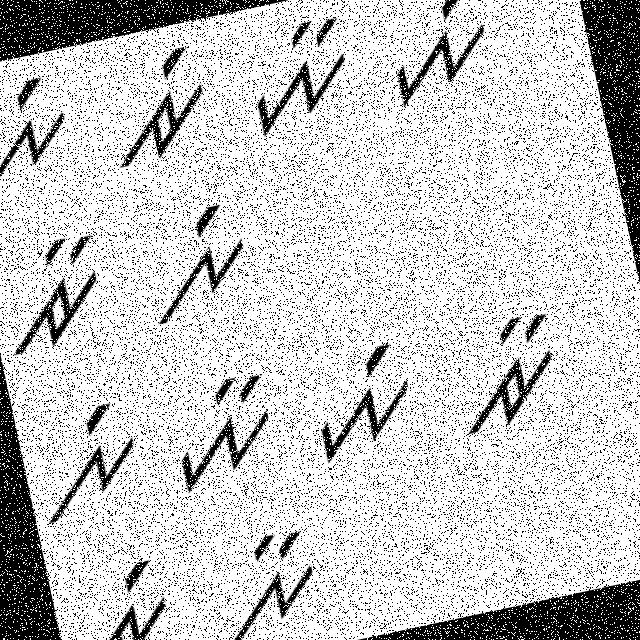lan: (198, 508, 344, 639)
lang: (128, 190, 270, 343), (18, 392, 153, 544), (0, 71, 82, 201)
ran: (438, 300, 580, 442), (0, 226, 119, 362)
rang: (92, 41, 225, 172), (53, 542, 196, 639)
yan: (156, 366, 294, 499), (224, 12, 361, 144)
yang: (294, 328, 436, 469), (360, 0, 508, 119)
